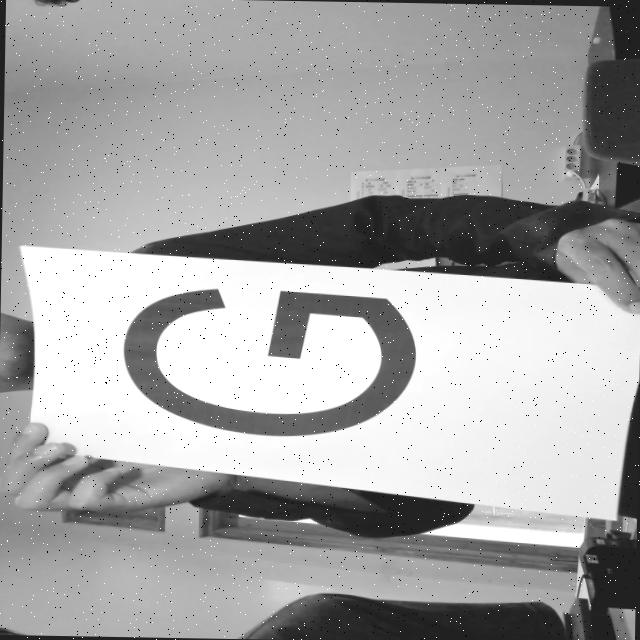g: (106, 268, 442, 452)
